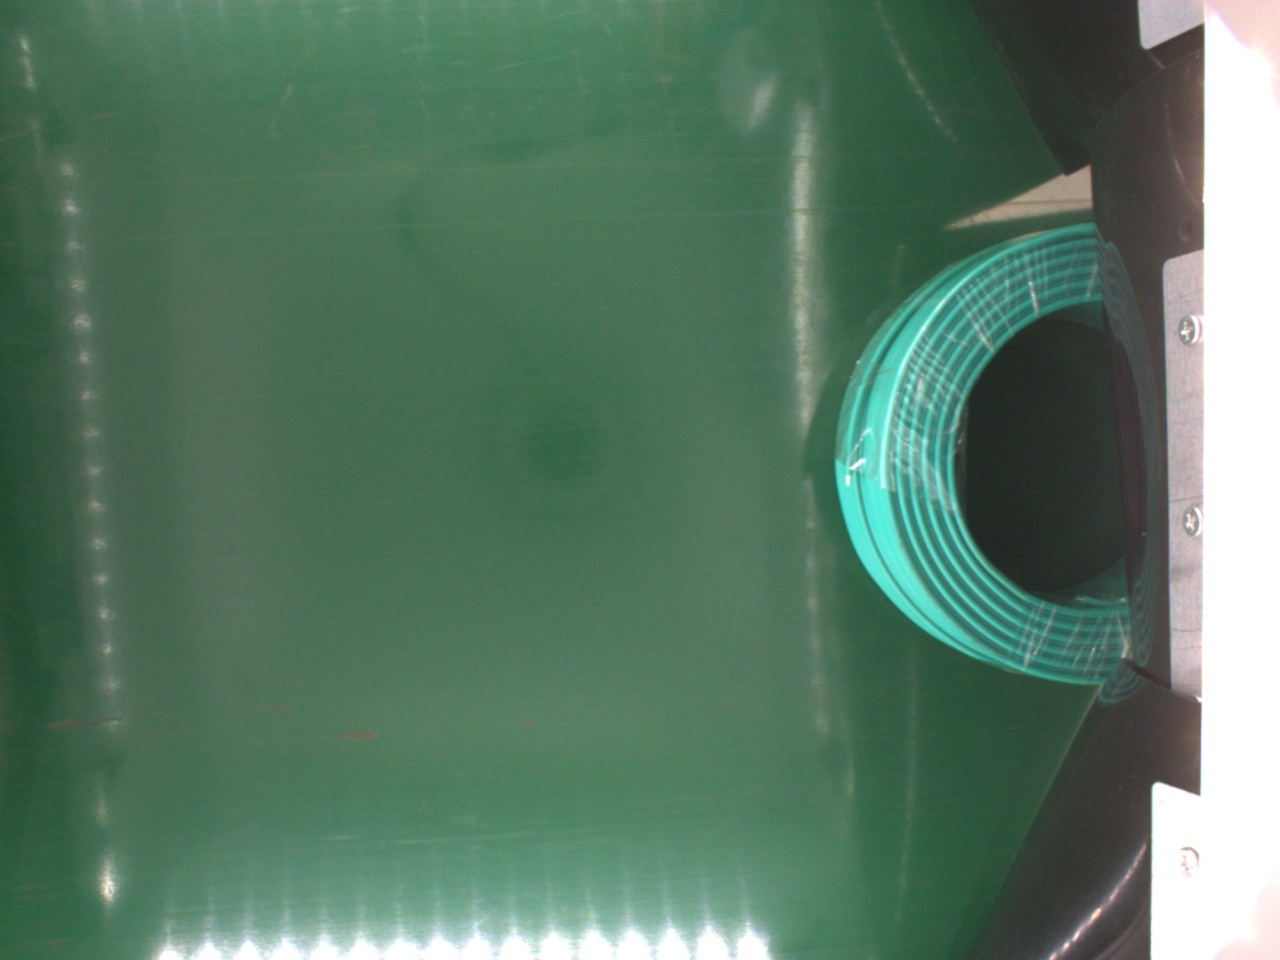green: (837, 222, 1139, 684)
